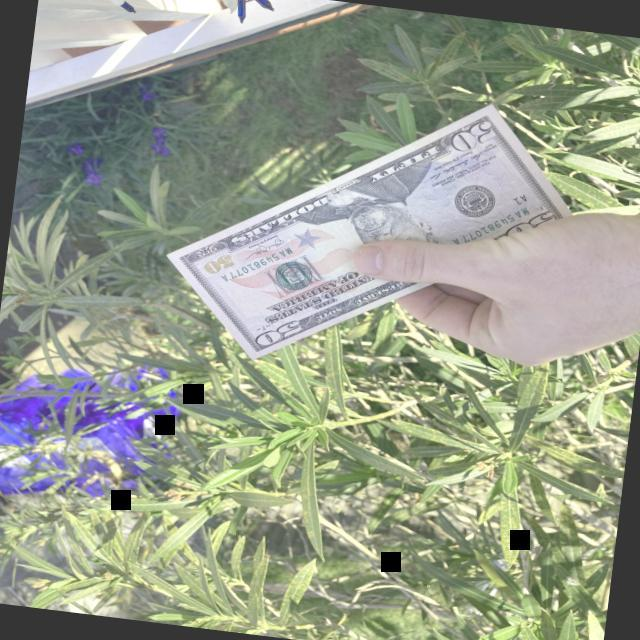fifty: (165, 101, 575, 359)
